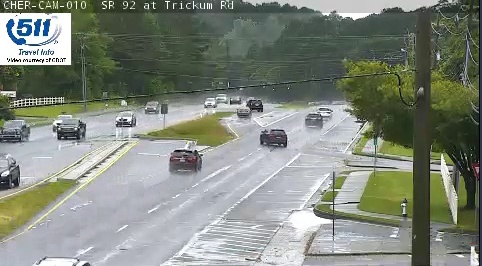car: (170, 149, 202, 170), (305, 113, 322, 127)
